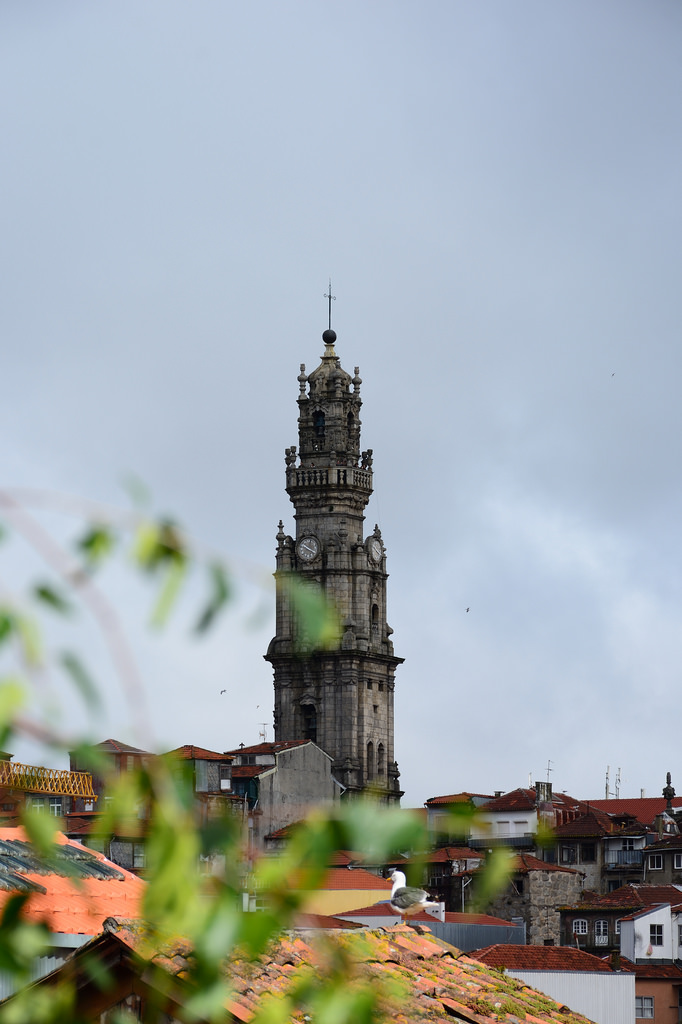clerigos: (263, 283, 404, 821)
